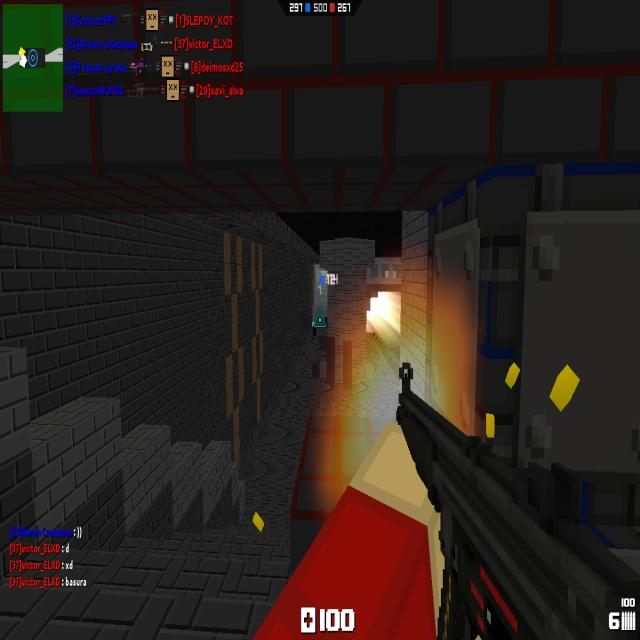enemy: (312, 320, 316, 338)
